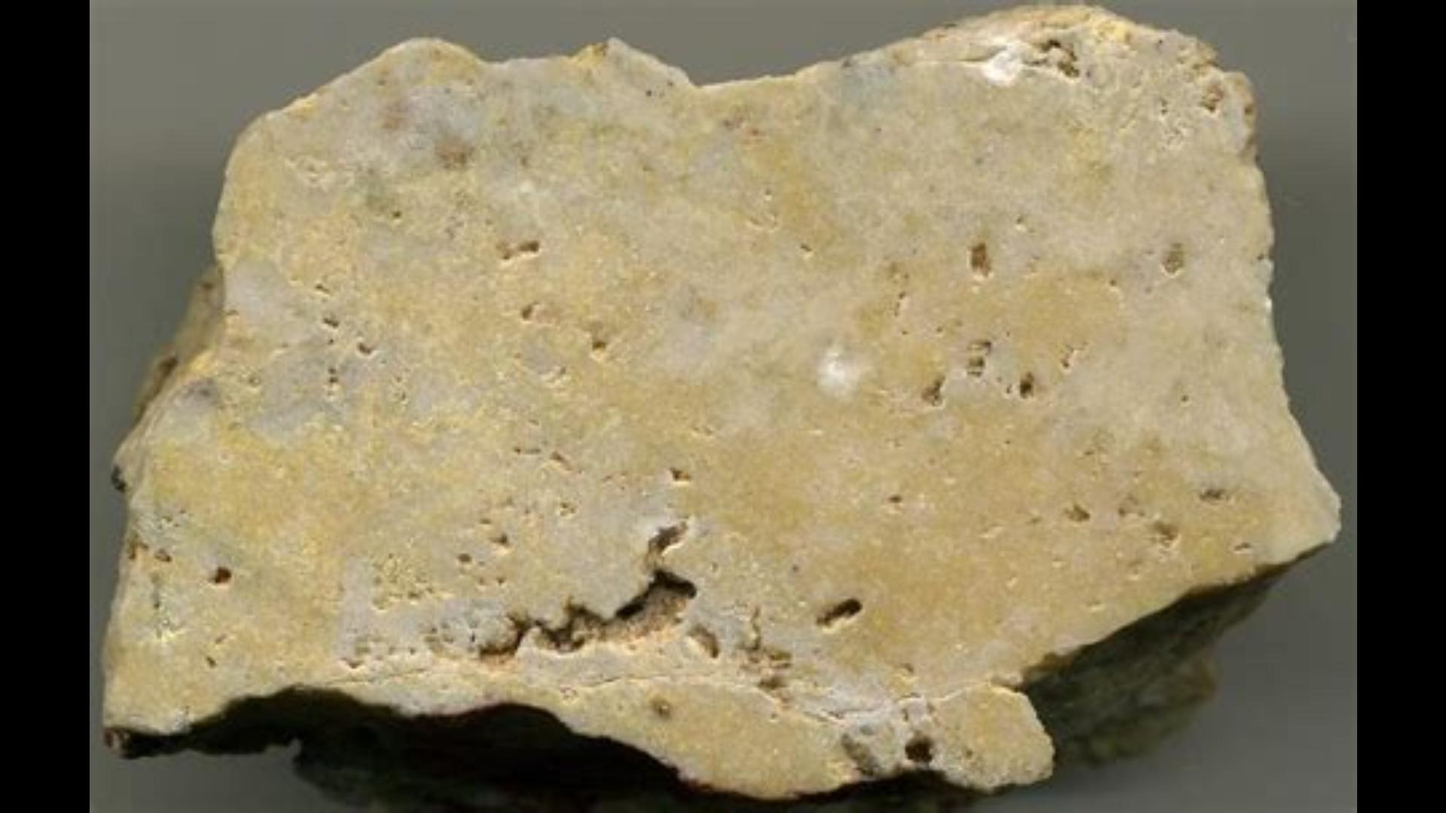rock: (102, 8, 1336, 797)
